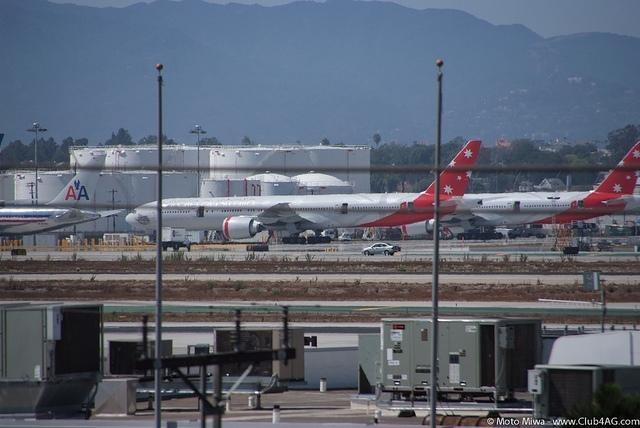car: (361, 243, 396, 256), (458, 231, 484, 239), (582, 222, 600, 232), (338, 232, 352, 243)
truck: (162, 227, 192, 252), (524, 224, 551, 238)
